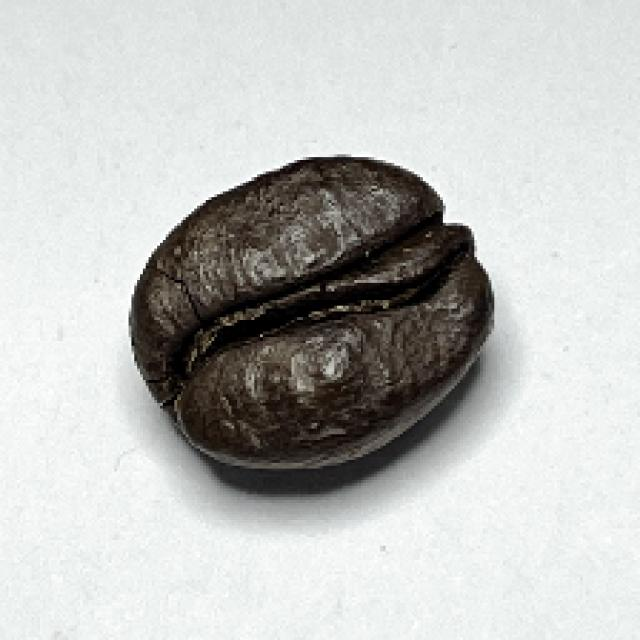bean: (123, 150, 502, 473)
